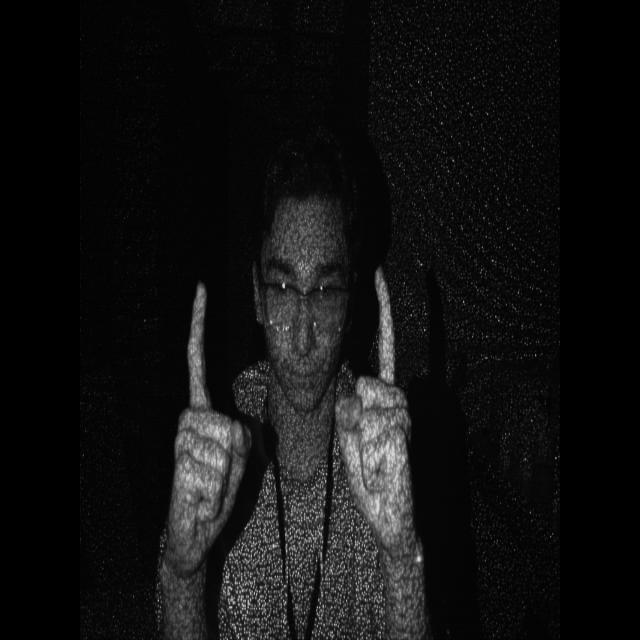STARS: (158, 258, 255, 567), (332, 246, 410, 552)
